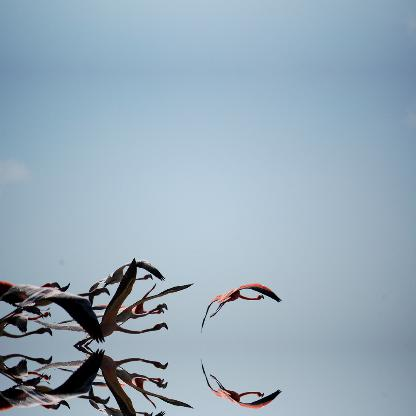Bird: (0, 256, 194, 344), (0, 346, 195, 415), (206, 374, 280, 406), (206, 286, 280, 316)
